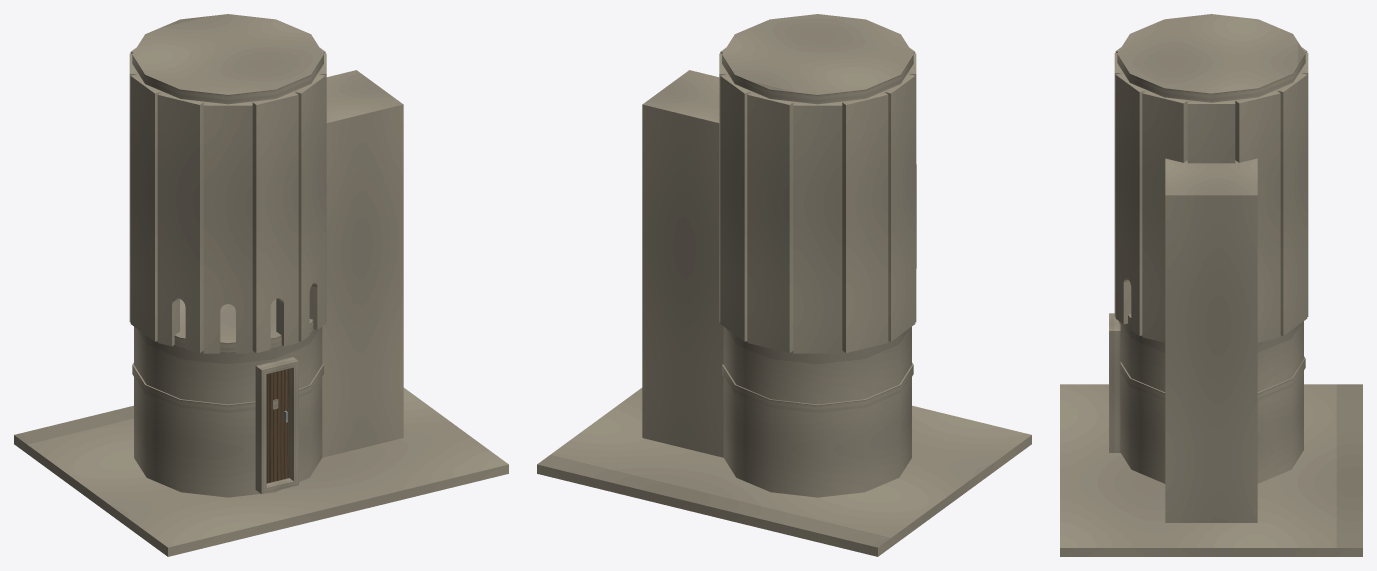
The model's file is baku.glb.
3 views of the same model, side by side, from view 1: azimuth 30°, elevation 25°; view 2: azimuth 150°, elevation 25°; view 3: azimuth 270°, elevation 25° (orthographic).
Visible parts, largest first — view 1: baku; view 2: baku; view 3: baku.
Boxes of the visible parts, left/top/right/bottom form: baku: left=14, top=14, right=508, bottom=556; baku: left=537, top=14, right=1031, bottom=556; baku: left=1060, top=14, right=1362, bottom=556.
Bounding box in the file's own units: 4.6 × 5.32 × 3.6.
1 material, 1 textured.
